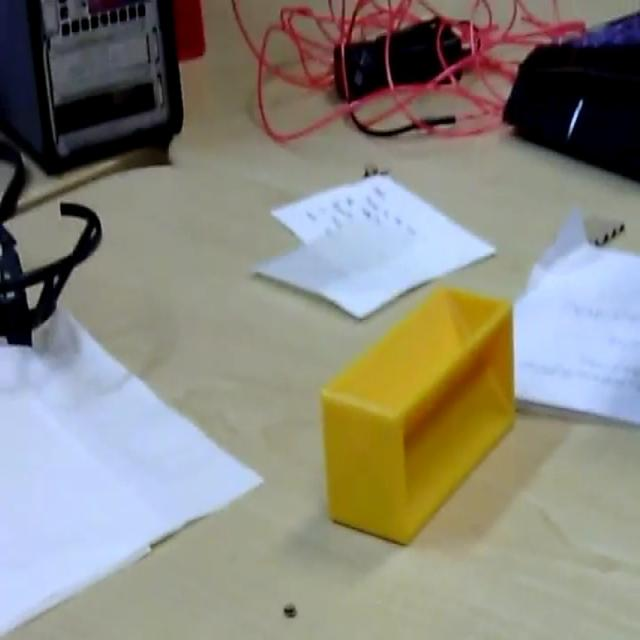yellow_block: (319, 283, 516, 545)
